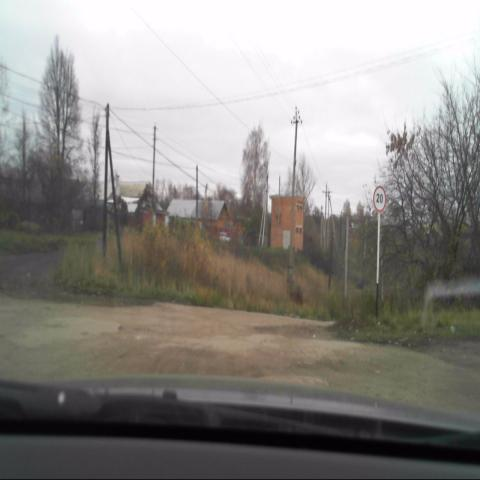3_24: (372, 185, 386, 214)
